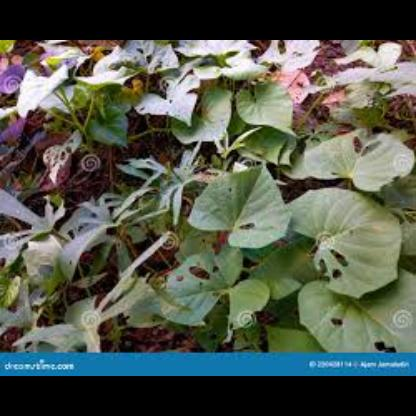agujero: (204, 226, 226, 260), (190, 260, 212, 284), (330, 246, 350, 268), (372, 340, 398, 352), (363, 140, 379, 158), (329, 314, 345, 328), (172, 269, 186, 283), (65, 226, 79, 240), (238, 224, 256, 233), (320, 258, 326, 284), (330, 266, 342, 278), (354, 136, 362, 152), (278, 42, 288, 54), (64, 145, 74, 153), (226, 187, 234, 195), (60, 152, 66, 160), (298, 80, 304, 88), (210, 267, 220, 271)
